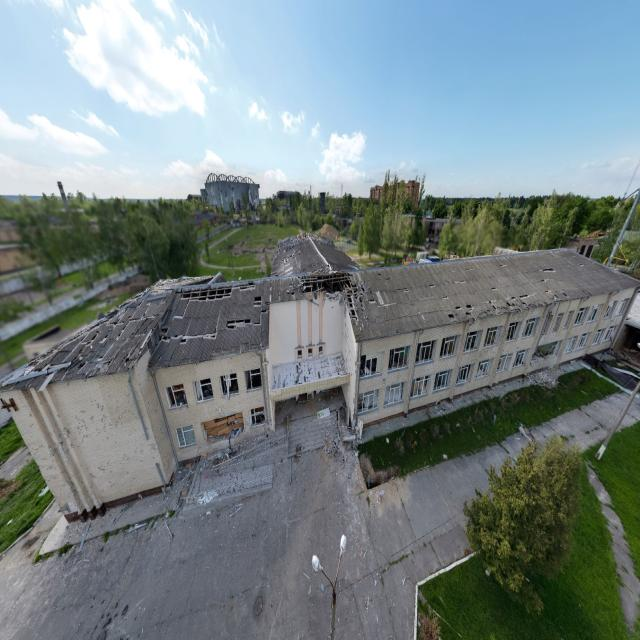broken_window: (165, 383, 188, 409), (193, 378, 214, 403), (219, 373, 239, 397), (176, 425, 196, 449), (483, 326, 503, 349), (463, 330, 483, 353), (244, 368, 263, 392), (456, 363, 475, 385), (475, 358, 494, 379), (505, 321, 523, 343), (522, 317, 541, 337), (249, 406, 266, 428), (496, 353, 513, 374), (587, 304, 604, 323), (576, 332, 592, 351), (574, 307, 590, 326), (551, 313, 565, 333), (603, 325, 619, 342), (615, 298, 630, 316), (603, 301, 619, 317), (563, 310, 575, 330), (564, 336, 578, 353), (592, 328, 606, 345), (308, 348, 313, 356), (319, 346, 323, 355), (298, 350, 302, 357)
building: (2, 348, 274, 523), (354, 287, 639, 431), (270, 292, 357, 430)
damage: (30, 368, 227, 516), (295, 323, 399, 387), (431, 309, 533, 366), (200, 410, 245, 447), (530, 338, 564, 366), (352, 343, 361, 429), (541, 310, 553, 334)
damaged_roof: (0, 276, 215, 392), (147, 288, 222, 367), (368, 268, 475, 322), (489, 264, 592, 310), (287, 272, 365, 320), (271, 352, 351, 390), (235, 281, 270, 325), (276, 269, 361, 285), (210, 342, 262, 362), (175, 285, 232, 301), (275, 231, 310, 257), (306, 231, 344, 252), (226, 318, 251, 331), (308, 264, 342, 273), (282, 249, 301, 264), (477, 310, 502, 318), (366, 287, 373, 297)
other: (0, 291, 640, 640), (225, 241, 278, 283)
roof: (344, 248, 638, 340), (0, 279, 159, 391), (149, 272, 271, 368), (270, 231, 361, 303), (271, 352, 350, 390)
